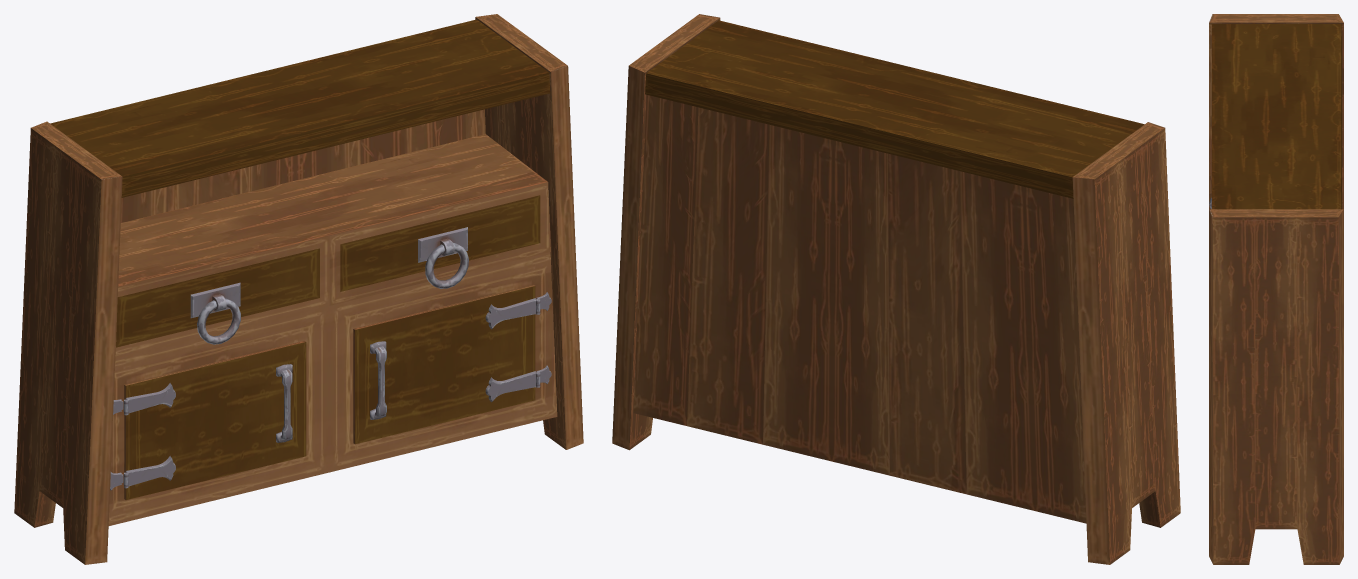
The model's file is Cabinet.gltf.
The picture shows the model from 3 angles, left to right: view 1: azimuth 30°, elevation 25°; view 2: azimuth 150°, elevation 25°; view 3: azimuth 270°, elevation 25°; orthographic projection. The views are drawn at different scales.
Visible parts, largest first — view 1: Cabinet; view 2: Cabinet; view 3: Cabinet.
Boxes of the visible parts, x1=… form: Cabinet: x1=14, y1=14, x2=583, y2=564; Cabinet: x1=612, y1=14, x2=1180, y2=564; Cabinet: x1=1209, y1=14, x2=1343, y2=564.
Size of the model in its own units: 1.36 by 0.9974 by 0.3571.
Materials: 2 (2 with a texture image).
